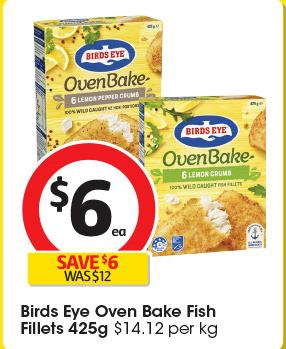description_block: (17, 297, 225, 347)
price_main: (25, 157, 152, 250)
product_image_block: (129, 80, 272, 261)
promo_text_block: (19, 250, 153, 290)
unit_price_block: (112, 316, 226, 341)
